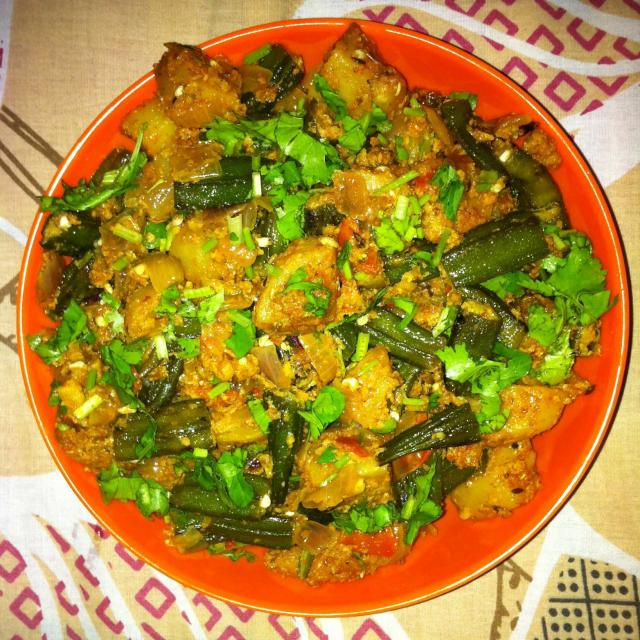BhindiMasala: (38, 18, 608, 586)
